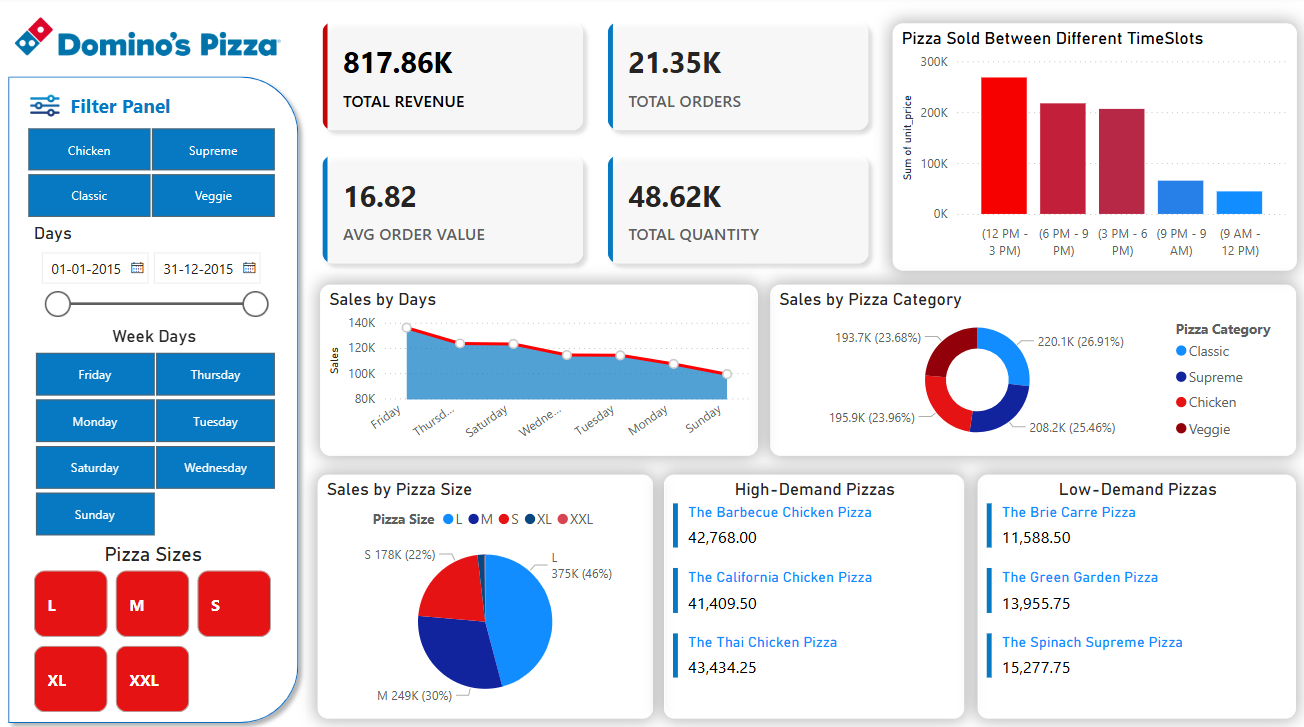

The page's visual inventory and layout, read from the dashboard file:
{"tool":"powerbi","page":{"name":"Page 1","canvas":[1280,720],"ordinal":0},"visuals":[{"type":"shape","box":[0,70,301.9,650.4],"z":0},{"type":"slicer","fields":{"Values":["Domino.pizza_category"]},"box":[2.7,108.4,290.9,113.9],"z":1000},{"type":"image","box":[9.6,11,271.7,56.3],"z":2000},{"type":"donutChart","fields":{"Category":["Domino.pizza_category"],"Y":["Sum(Domino.total_price)"]},"box":[754.7,282.7,514.6,167.4],"z":3000},{"type":"pieChart","fields":{"Y":["Sum(Domino.total_price)"],"Category":["Domino.pizza_size"]},"box":[311.5,467.9,328,238.8],"z":4000},{"type":"columnChart","title":"Pizza Sold Between Different TimeSlots","fields":{"Y":["Sum(Domino.unit_price)"],"Category":["Domino.TimeSlot"]},"box":[874.1,27.4,395.2,241.5],"z":5000},{"type":"areaChart","fields":{"Category":["Domino.Day Name"],"Y":["Sum(Domino.total_price)"]},"box":[314.2,282.7,428.1,167.4],"z":6000},{"type":"multiRowCard","title":"High-Demand Pizzas","fields":{"Values":["Domino.pizza_name","Sum(Domino.total_price)"]},"box":[650.4,467.9,293.7,238.8],"z":7000},{"type":"multiRowCard","title":"Low-Demand Pizzas","fields":{"Values":["Domino.pizza_name","Sum(Domino.total_price)"]},"box":[957.8,467.9,311.5,238.8],"z":8000},{"type":"image","box":[26.1,85.1,38.4,42.5],"z":9000},{"type":"textbox","box":[64.5,89.2,299.1,41.2],"z":10000},{"type":"cardVisual","fields":{"Data":["Sum(Domino.total_price)","Count(Domino.order_id)","Avg(Domino.total_price)","CountNonNull(Domino.quantity)"]},"box":[299.1,8.2,569.5,270.3],"z":11000},{"type":"slicer","title":"Days","fields":{"Values":["Domino.order_date"]},"box":[28.8,220.9,242.9,97.4],"z":12000},{"type":"advancedSlicerVisual","fields":{"Values":["Domino.pizza_size"]},"box":[28.8,535.2,242.9,171.5],"z":13000},{"type":"slicer","title":"Week Days","fields":{"Values":["Domino.Day Name"]},"box":[9.6,318.4,284,216.8],"z":14000}]}

Visuals, with their boxes in screenshot pixels (x1, y1, x2, y2), scaled from the page's 1280x720 canvas onto the 1304x727 screenshot:
shape: box=[0, 71, 308, 726]
slicer - Domino.pizza_category: box=[3, 109, 299, 224]
image: box=[10, 11, 287, 68]
donutChart - Domino.pizza_category x Sum(Domino.total_price): box=[769, 285, 1293, 454]
pieChart - Sum(Domino.total_price) x Domino.pizza_size: box=[317, 472, 651, 714]
"Pizza Sold Between Different TimeSlots" columnChart: box=[890, 28, 1293, 272]
areaChart - Domino.Day Name x Sum(Domino.total_price): box=[320, 285, 756, 454]
"High-Demand Pizzas" multiRowCard: box=[663, 472, 962, 714]
"Low-Demand Pizzas" multiRowCard: box=[976, 472, 1293, 714]
image: box=[27, 86, 66, 129]
textbox: box=[66, 90, 370, 132]
cardVisual - Sum(Domino.total_price) x Count(Domino.order_id): box=[305, 8, 885, 281]
"Days" slicer: box=[29, 223, 277, 321]
advancedSlicerVisual - Domino.pizza_size: box=[29, 540, 277, 714]
"Week Days" slicer: box=[10, 321, 299, 540]
